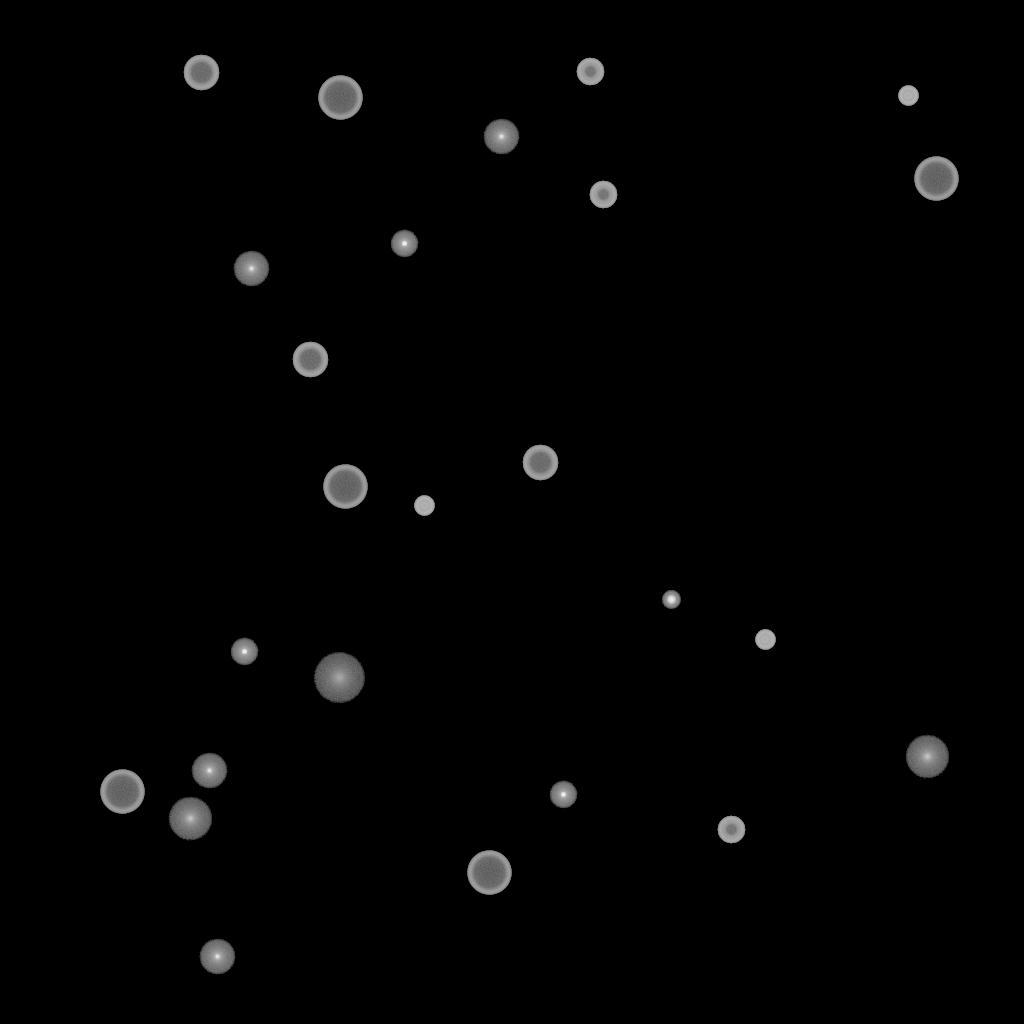depth:-10: (390, 230, 418, 258), (549, 781, 577, 809), (230, 638, 258, 666)
depth:-20: (662, 591, 680, 609)
depth:-40: (755, 630, 775, 650), (414, 496, 434, 516), (898, 86, 918, 106)
depth:-50: (576, 58, 604, 86), (717, 816, 745, 844), (589, 181, 617, 209)
depth:-60: (292, 342, 328, 378), (522, 445, 558, 481), (183, 55, 219, 91)
depth:-70: (467, 851, 511, 895), (323, 465, 367, 509), (318, 76, 362, 120), (100, 770, 144, 814), (914, 157, 958, 201)
depth:0: (191, 753, 227, 789), (483, 119, 519, 155), (233, 251, 269, 287), (199, 939, 235, 975)
depth:10: (905, 735, 949, 779), (168, 797, 212, 841)
depth:20: (313, 653, 365, 703)
